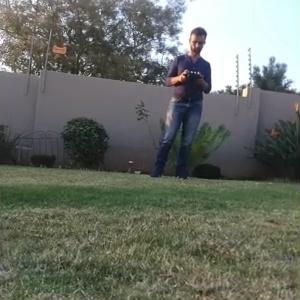follow: (144, 18, 214, 183)
